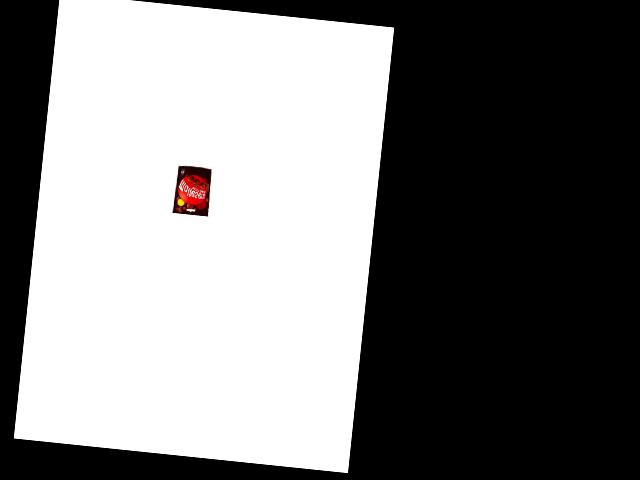chocolate: (172, 163, 213, 217)
